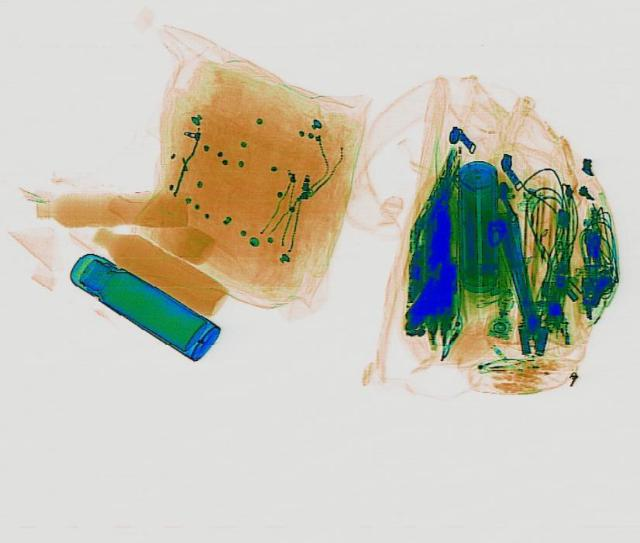Wrench: (501, 210, 544, 347)
